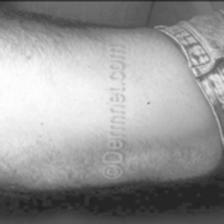Unclassified: (34, 127, 52, 141), (22, 53, 34, 61)
